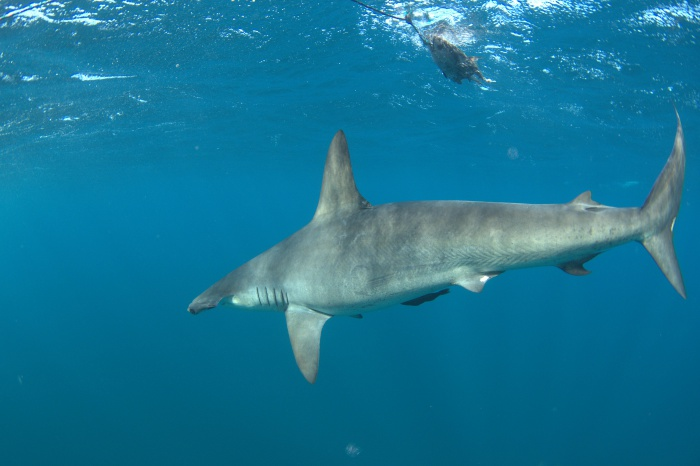Hammer: (177, 117, 700, 378)
